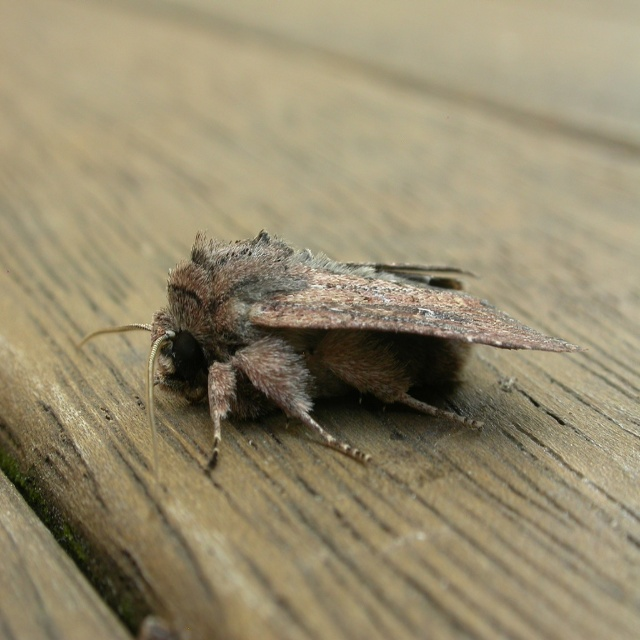Moths and butterflies: (73, 223, 588, 500)
